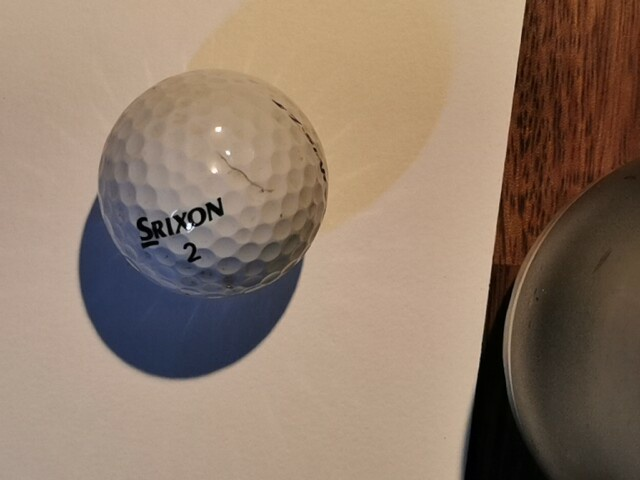Ball: (97, 68, 328, 298)
Srixon: (136, 197, 224, 249)
